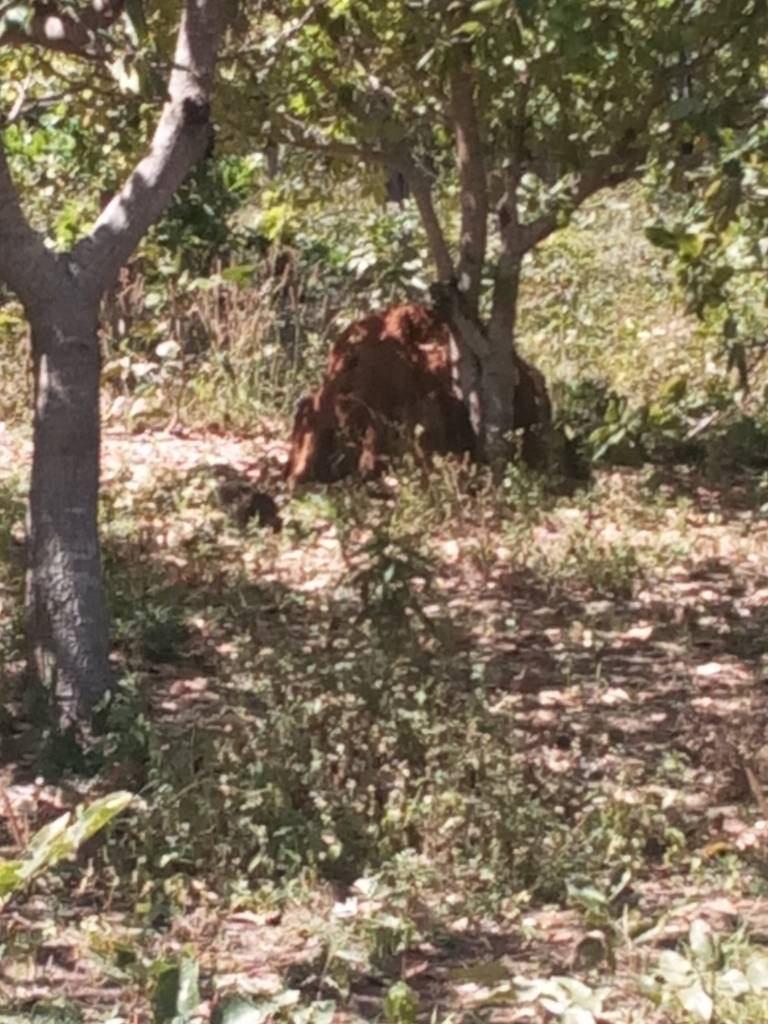Termites: (304, 305, 435, 447)
